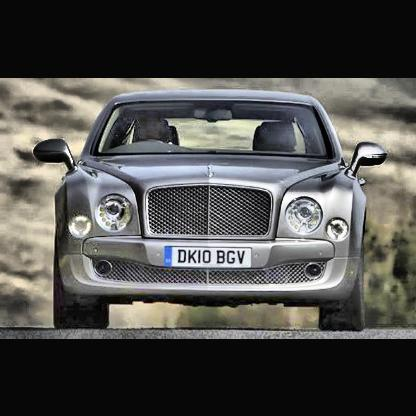Bentley Mulsanne Sedan 2011: (36, 93, 387, 329)
